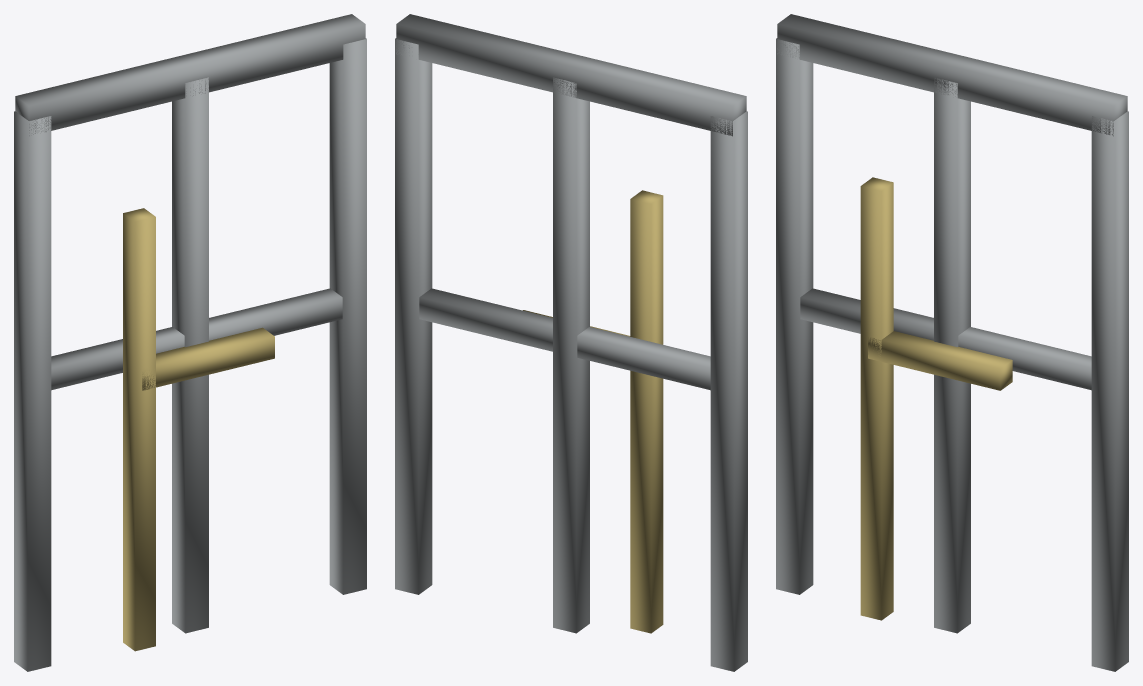
File: residential_gate_l60_h100.glb
3 views of the same model, side by side, from view 1: azimuth 30°, elevation 25°; view 2: azimuth 150°, elevation 25°; view 3: azimuth 330°, elevation 25° (orthographic).
Parts seen in each view (by area): view 1: world; view 2: world; view 3: world.
Part boxes in pixels (x1,y1,x2,y2): world: (14, 14, 366, 671); world: (395, 14, 747, 671); world: (776, 14, 1128, 671).
Size of the model in its own units: 0.645 by 1.03 by 0.0825.
